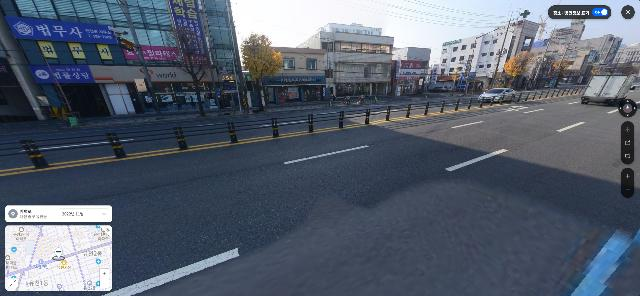ginkgo: (241, 33, 284, 112), (502, 50, 540, 90)
other: (160, 23, 220, 117), (531, 48, 564, 89), (556, 48, 590, 87)
